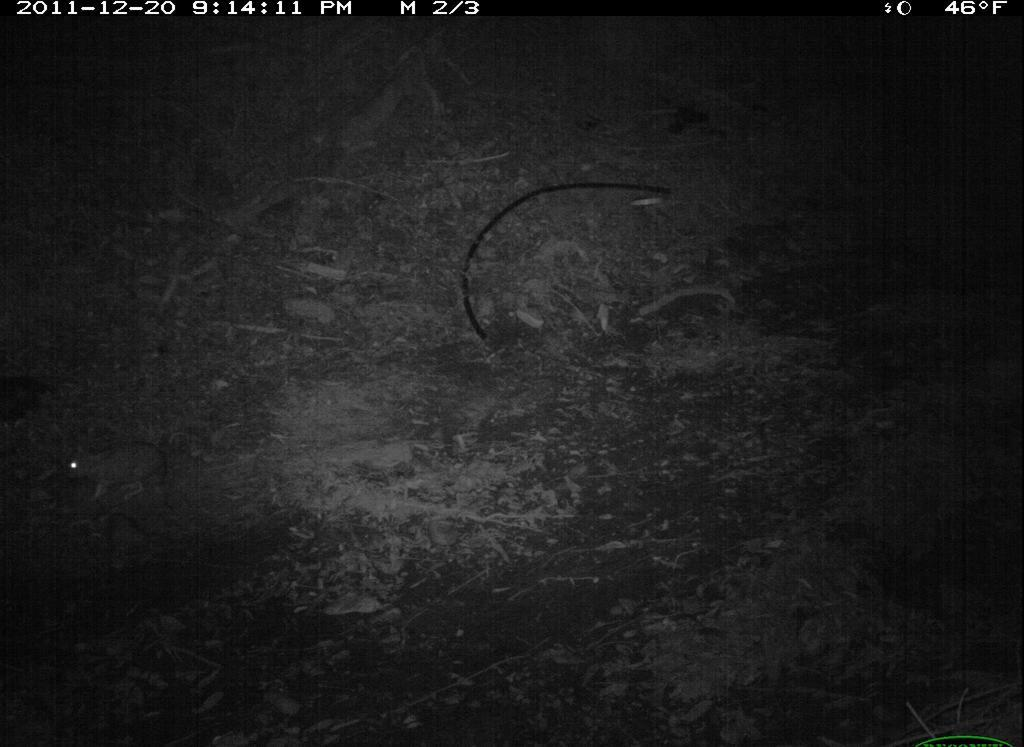rabbit: (43, 436, 185, 507)
